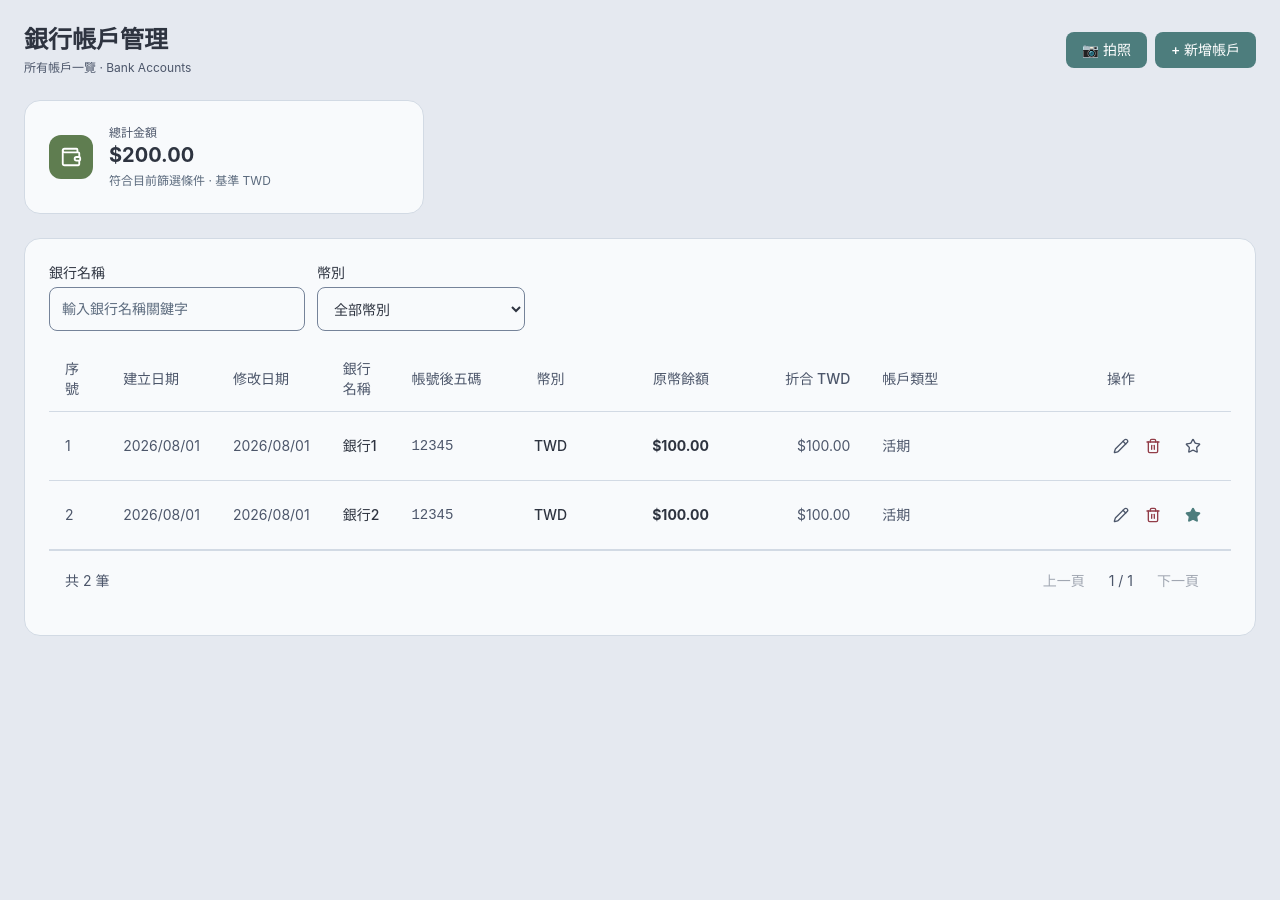
retains the previous marker and reports a failed write
The width and height of the screenshot is (1280, 900).
Click the 5th button at point(1193, 446), box [1171,424,1215,468]
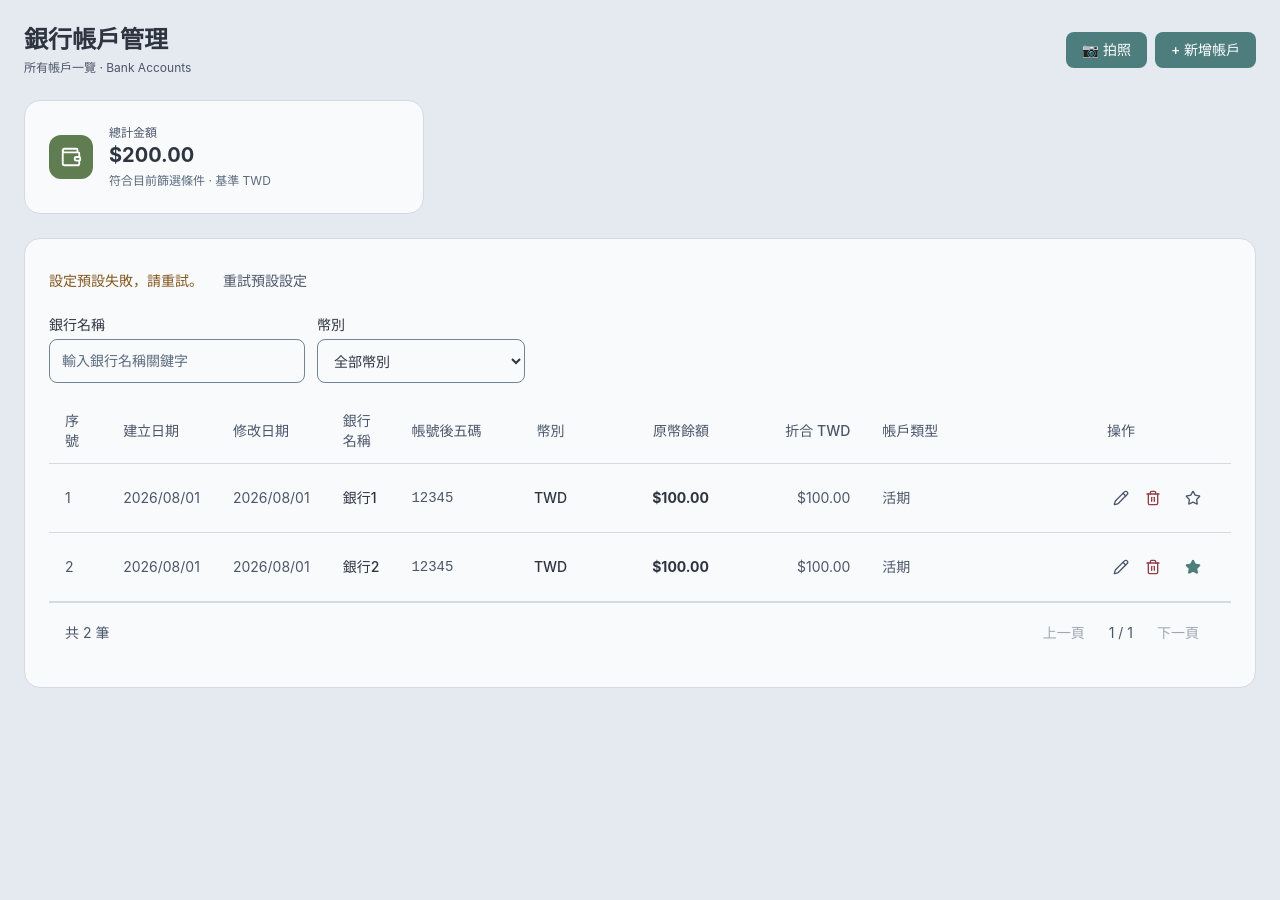
Expected: the picture with test id "default-indicator" is shown, [1185,559,1201,575]
Expected: the text "設定預設失敗" is shown, [49,272,207,289]
